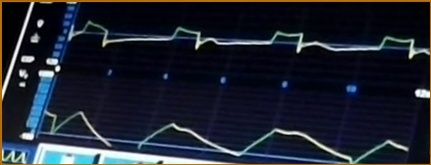Premature_cycling Flow: (67, 14, 429, 69)
Premature_cycling Volume: (44, 104, 409, 165)
